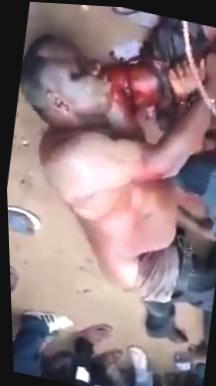Fire: (98, 58, 176, 141), (201, 136, 216, 154), (207, 27, 216, 51)
